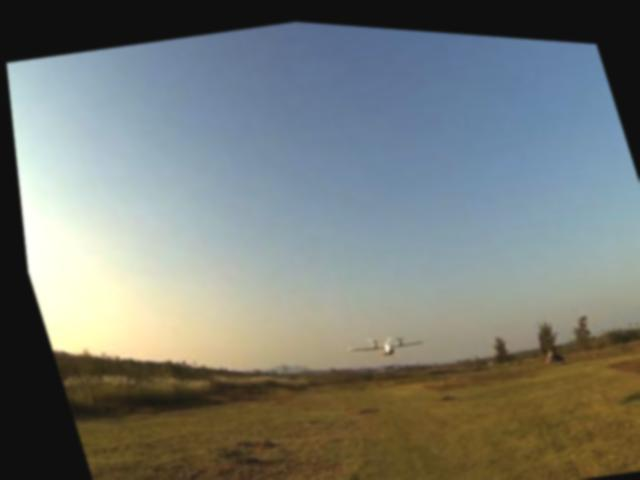uav: (323, 309, 437, 375)
